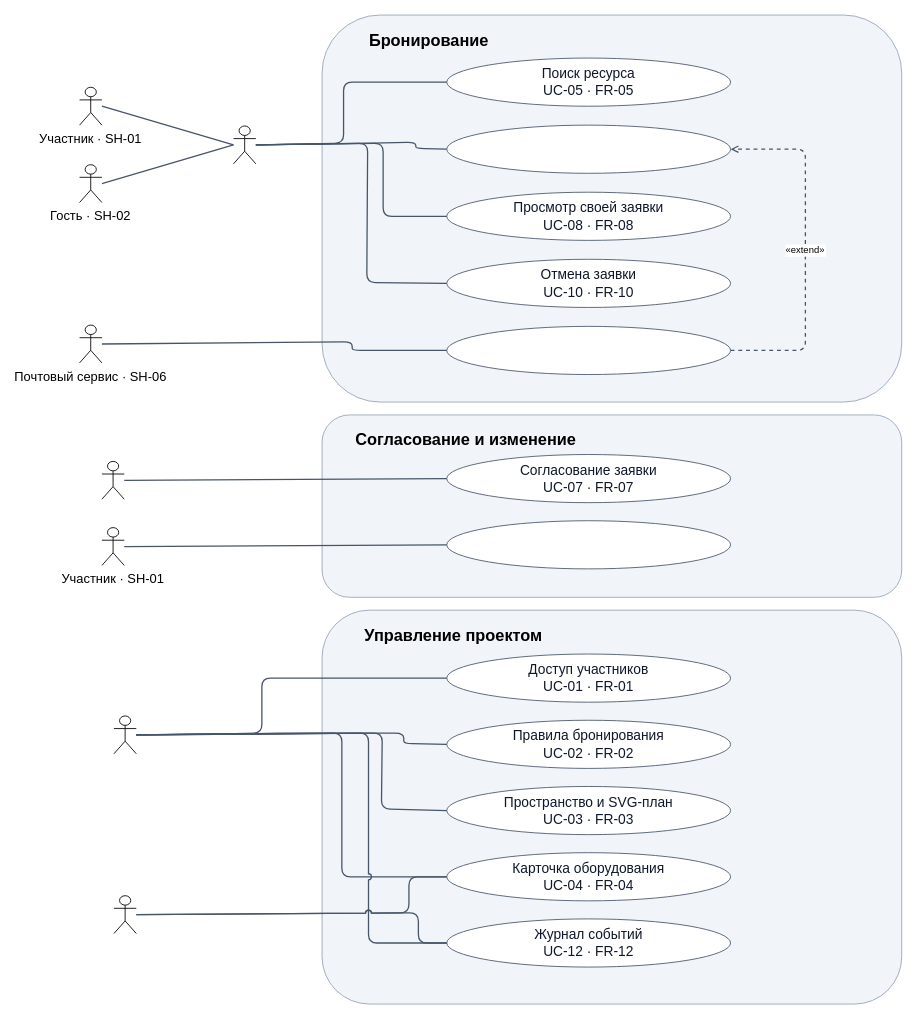
The diagram is 917 pixels wide and 1019 high, and some of its shapes have lost their labels. The centre of each missing label's shape, as x and y in pixels:
Автор заявки: the point at 244,144
Администратор · SH-03: the point at 124,734
Запрос изменения брони UC-09 · FR-09: the point at 588,544
Ответственный за оборудование · SH-04: the point at 124,914
Оформление заявки UC-06 · FR-06: the point at 588,148
Письмо со ссылкой UC-11 · FR-11: the point at 588,350
Согласующий · SH-05: the point at 112,480
